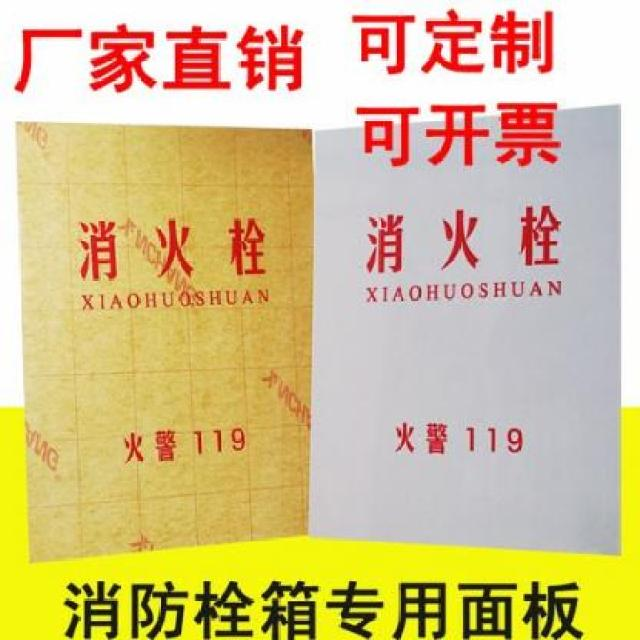firehydrant: (312, 98, 626, 561), (11, 117, 321, 573)
